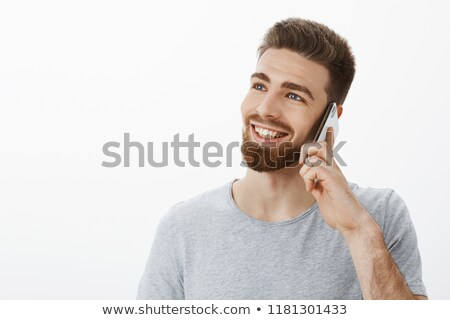phone: (307, 97, 354, 182)
talk: (241, 69, 368, 226)
